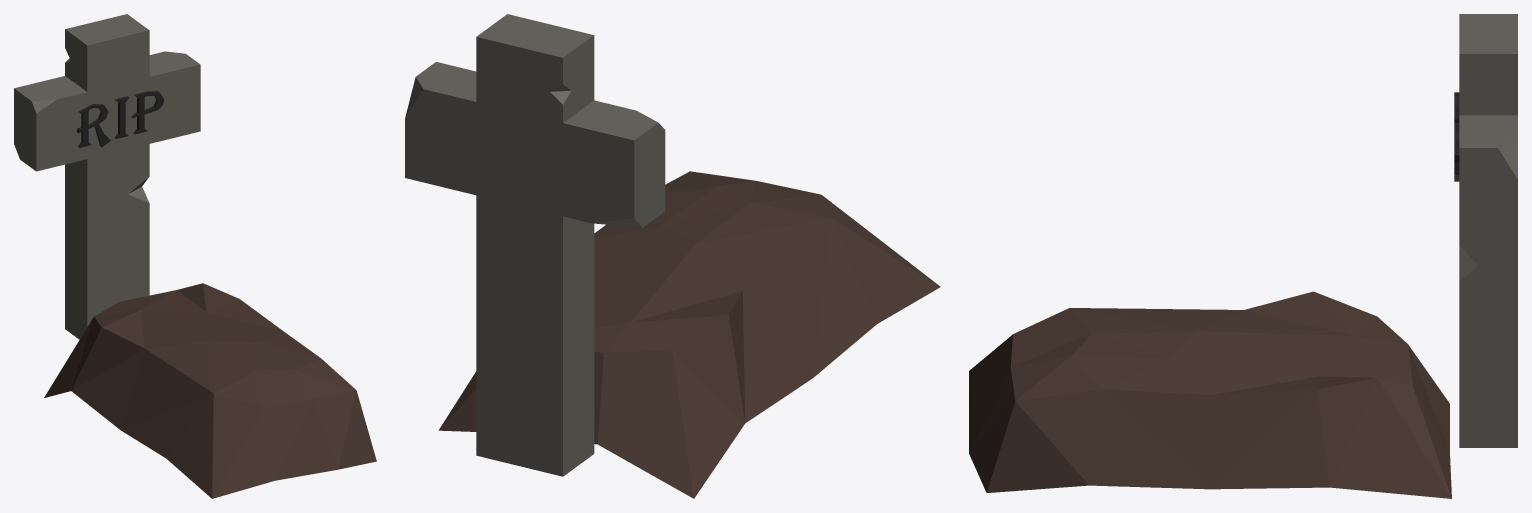
Rendered from LPHorror_GraveStone3.fbx.
The picture shows the model from 3 angles, left to right: view 1: azimuth 30°, elevation 25°; view 2: azimuth 150°, elevation 25°; view 3: azimuth 270°, elevation 25°; orthographic projection. The views are drawn at different scales.
Visible parts, largest first — view 1: GraveStone3; view 2: GraveStone3; view 3: GraveStone3.
Boxes of the visible parts, bbox=[...] form: GraveStone3: bbox=[14, 14, 376, 498]; GraveStone3: bbox=[405, 14, 940, 498]; GraveStone3: bbox=[969, 14, 1517, 498].
Bounding box in the file's own units: 116 × 193 × 222.
